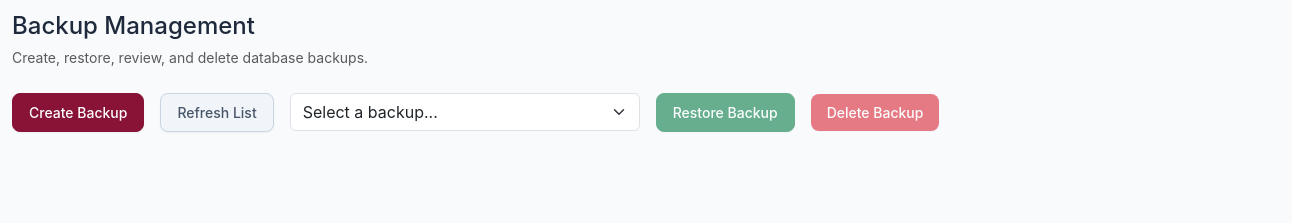
Test: BackupManagementTab › should show restore error
The image size is (1292, 223).
Step 1. Select "backup1.sql" in the dropdown → (465, 112), box [290,93,640,131]
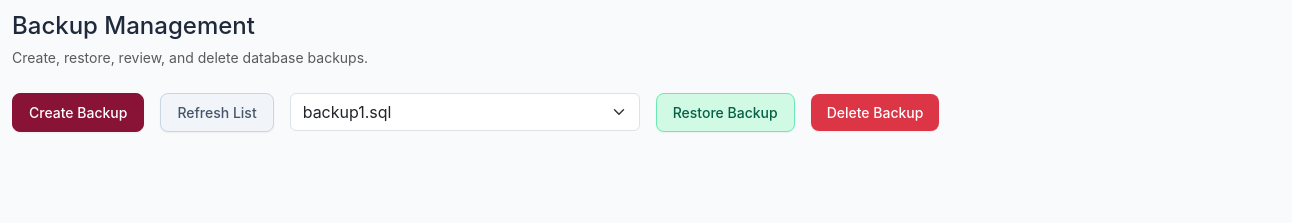
Step 2. Click the button "Restore Backup" → (725, 112), box [656,93,795,132]
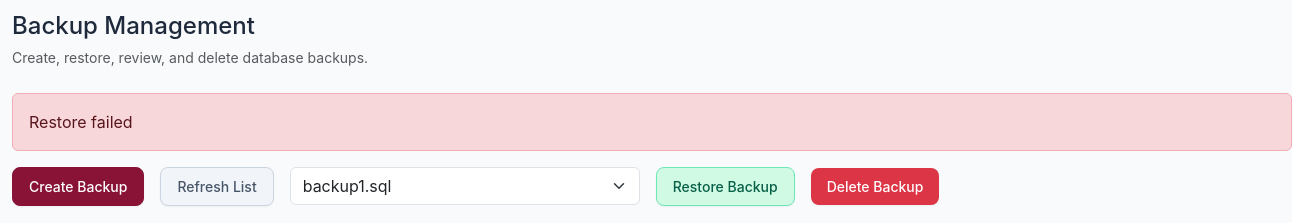
Expected: the text "Restore failed" is shown, [12,93,1291,151]
